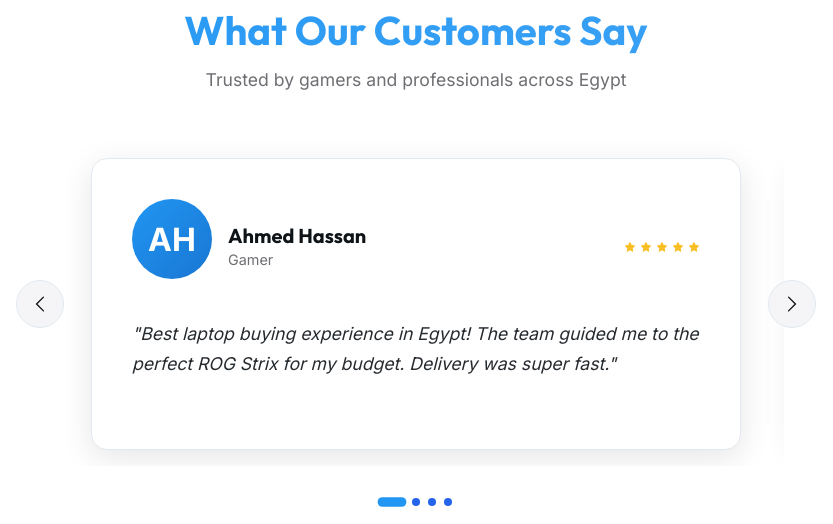
Testimonials Component › should change testimonial when dot is clicked
What coordinates should you click on to do the following:
click the 3rd element with class "dot"
I would click on:
 (432, 502)
Its box is x1=428 y1=498 x2=436 y2=506.
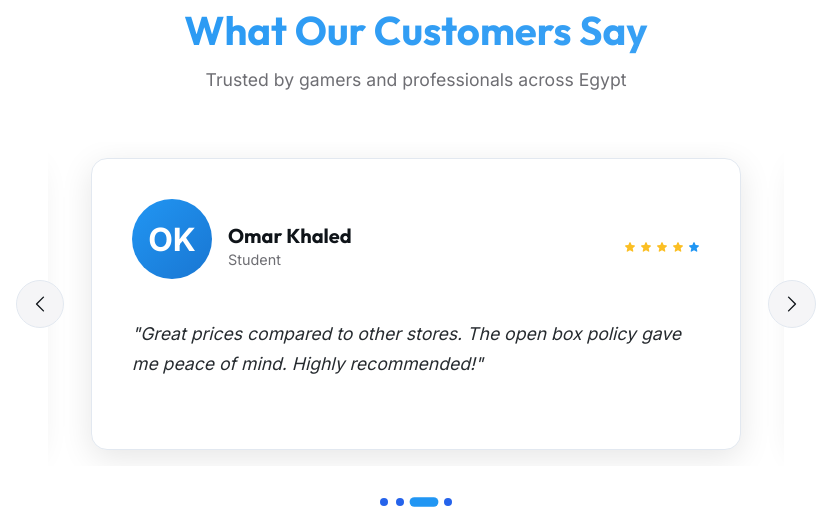
Expected: the heading "Omar Khaled" is shown, x1=228 y1=223 x2=352 y2=248
What coordinates should you click on to do the following:
click the 1st element with class "dot"
I would click on:
 (384, 502)
Its box is x1=380 y1=498 x2=388 y2=506.
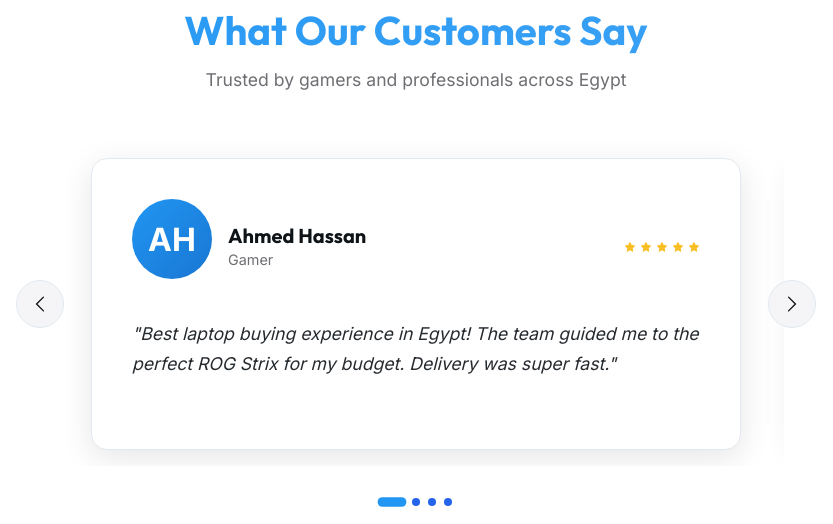
Expected: the heading "Ahmed Hassan" is shown, x1=228 y1=223 x2=366 y2=248
